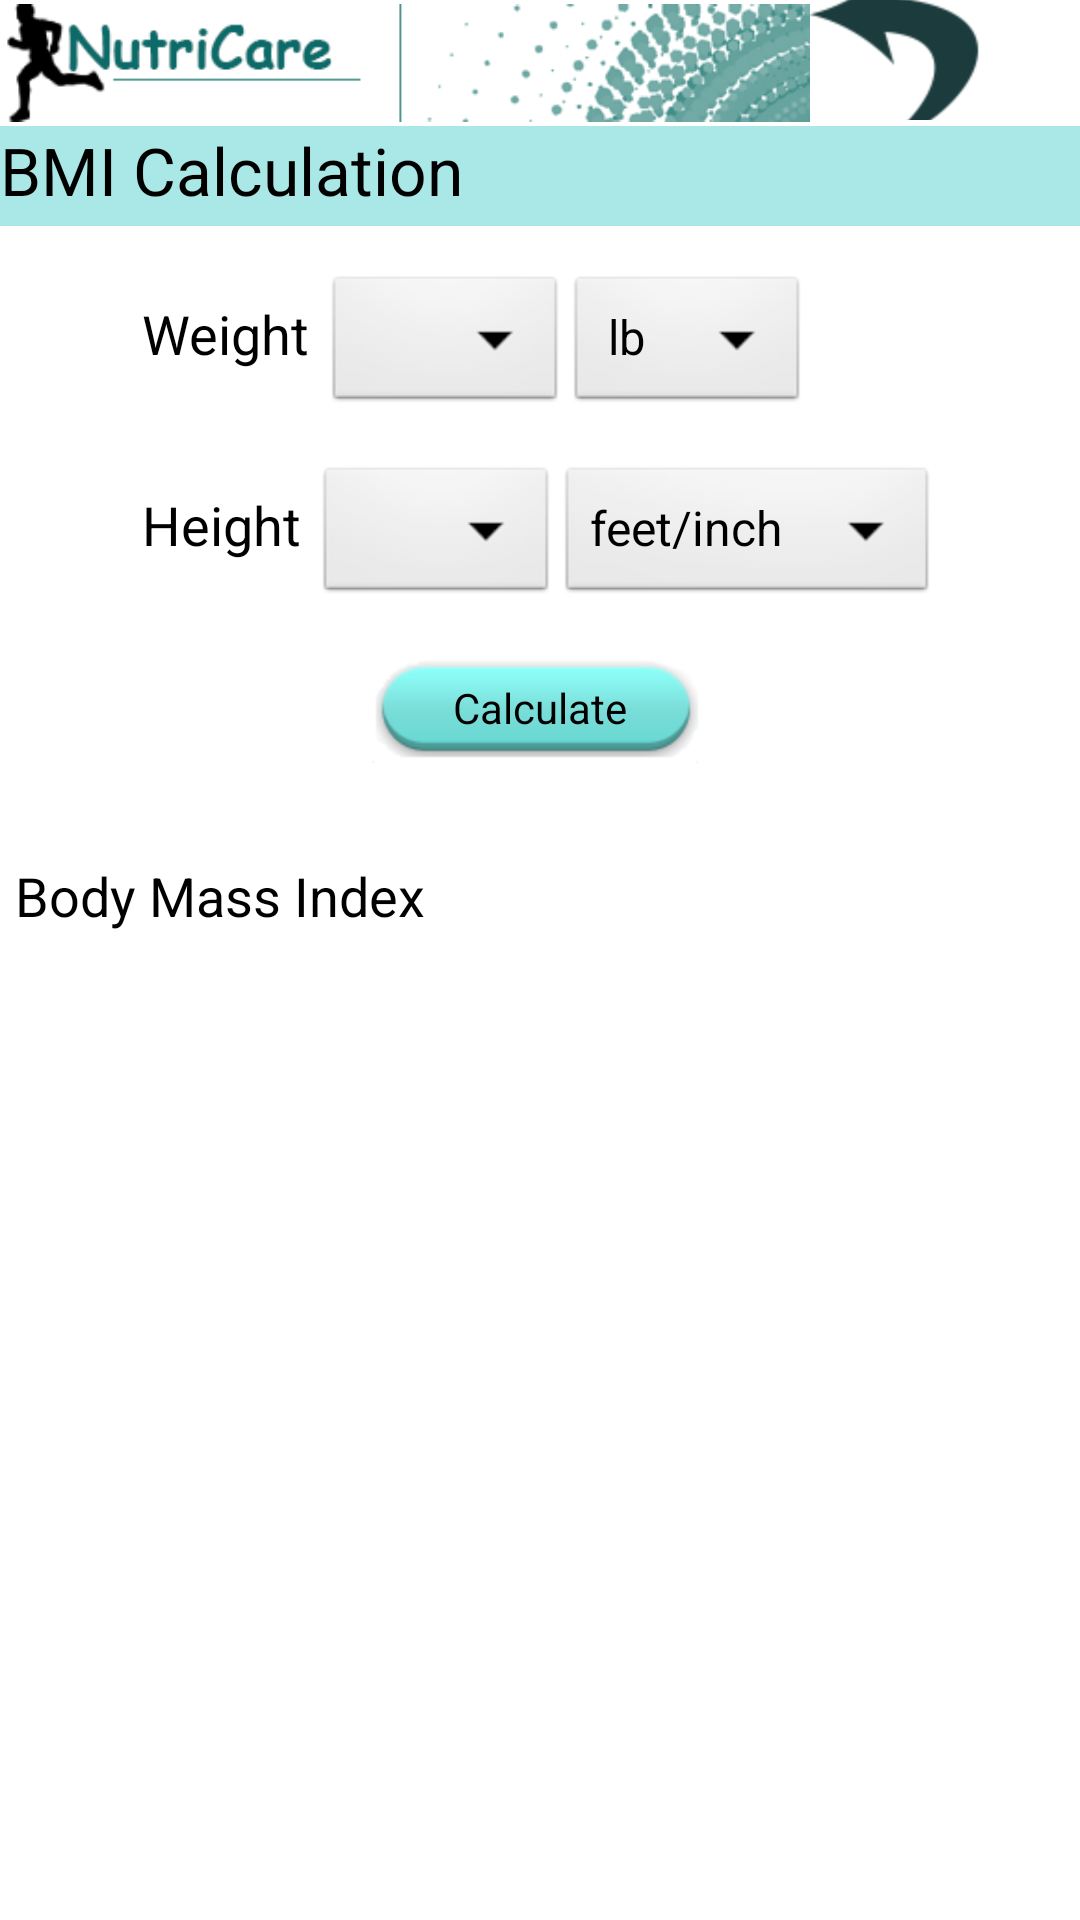

Icons on this 1080*1920 Android screen, each with the point to tap as point (x, y):
back: point (894, 60)
